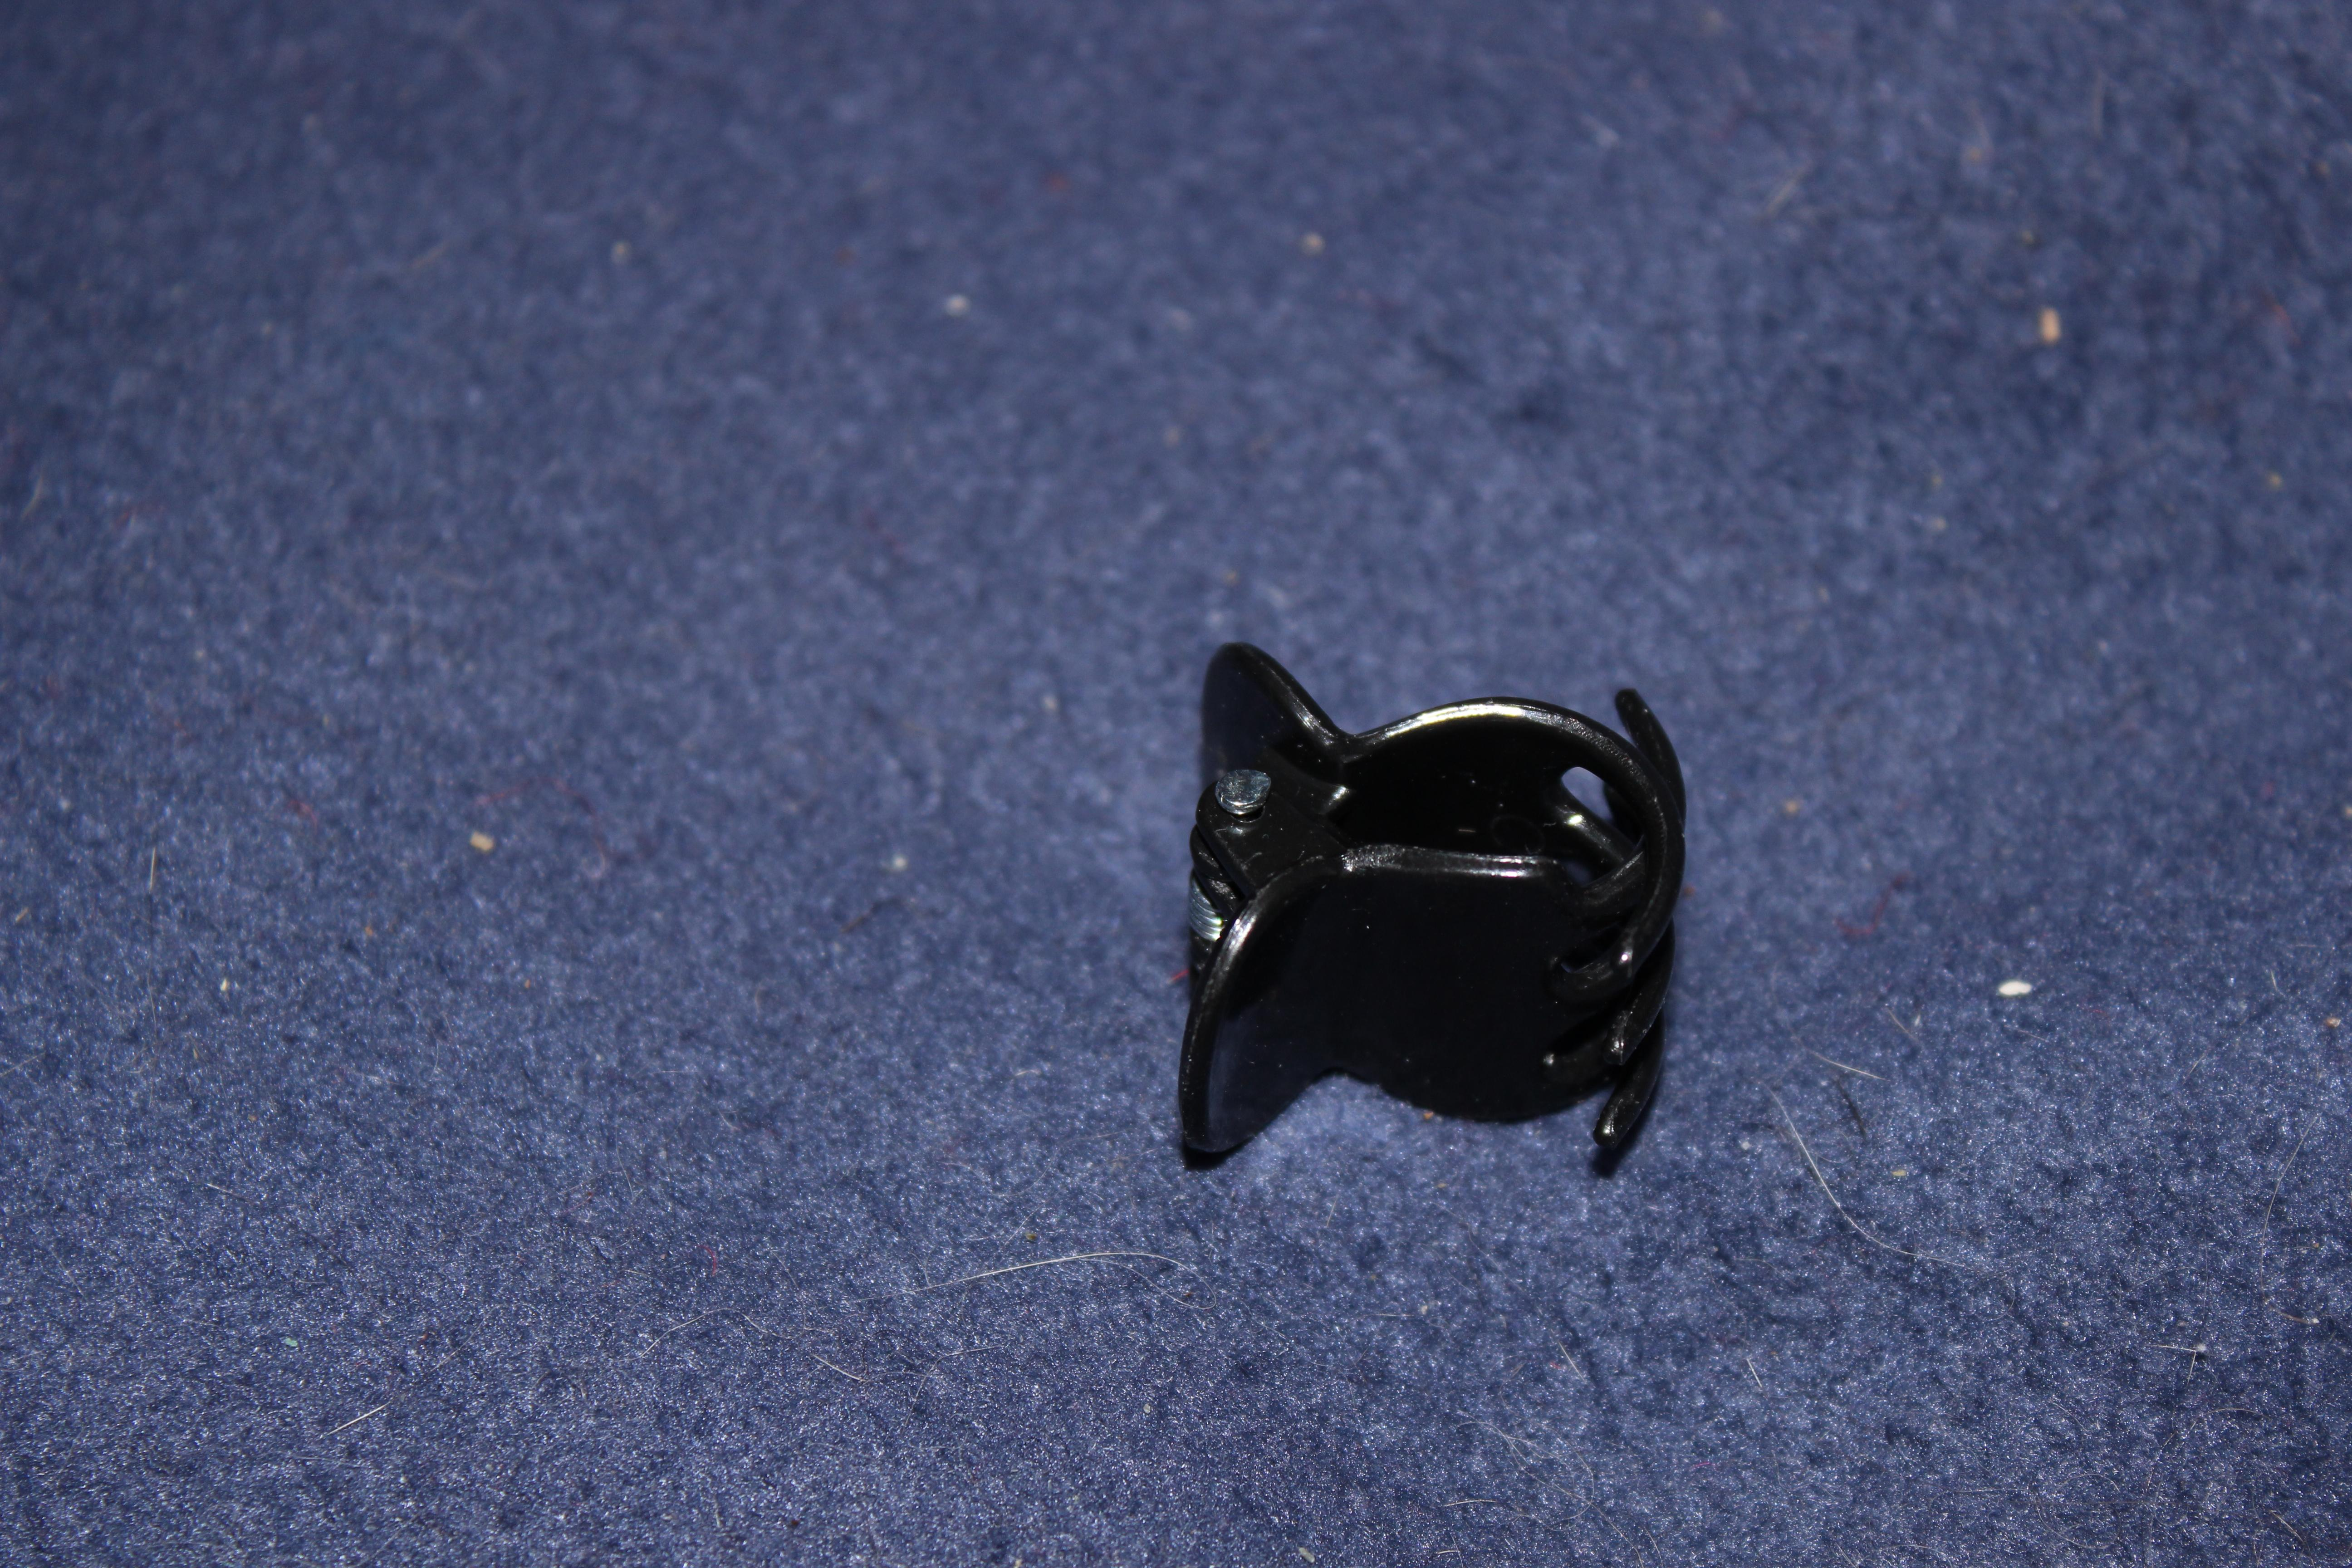hairClip: (1117, 591, 1731, 1246)
